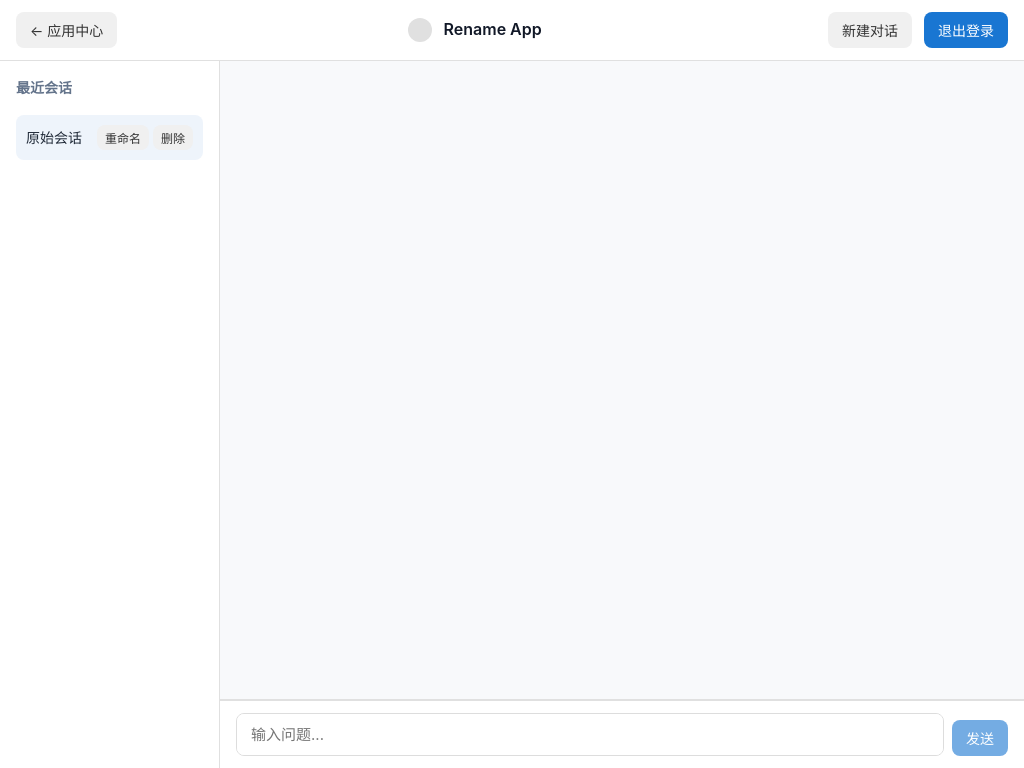
Test: ChatPage latest conversation inputs restore › renames a historical conversation through the platform API
Expected: the text "原始会话" is shown, [26,127,89,149]
Click the button "重命名" at (123, 138), box [97,125,149,150]
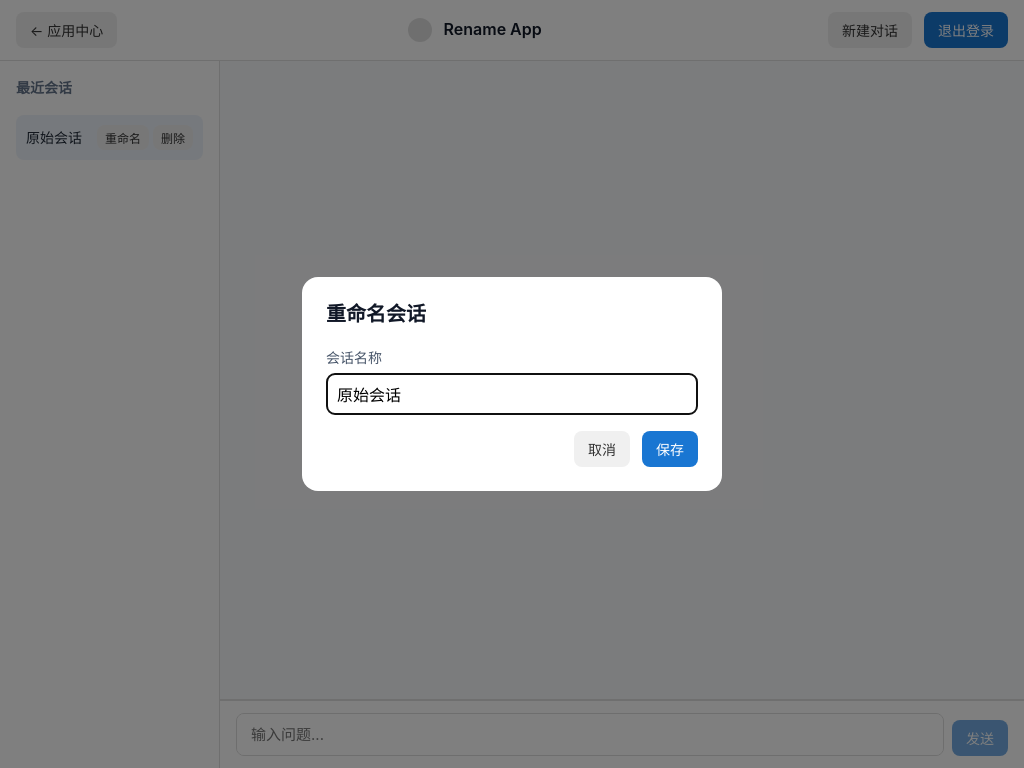
Replace the text in the field showing "原始会话" with "我的命盘解读" at (512, 394), box [326,373,698,415]
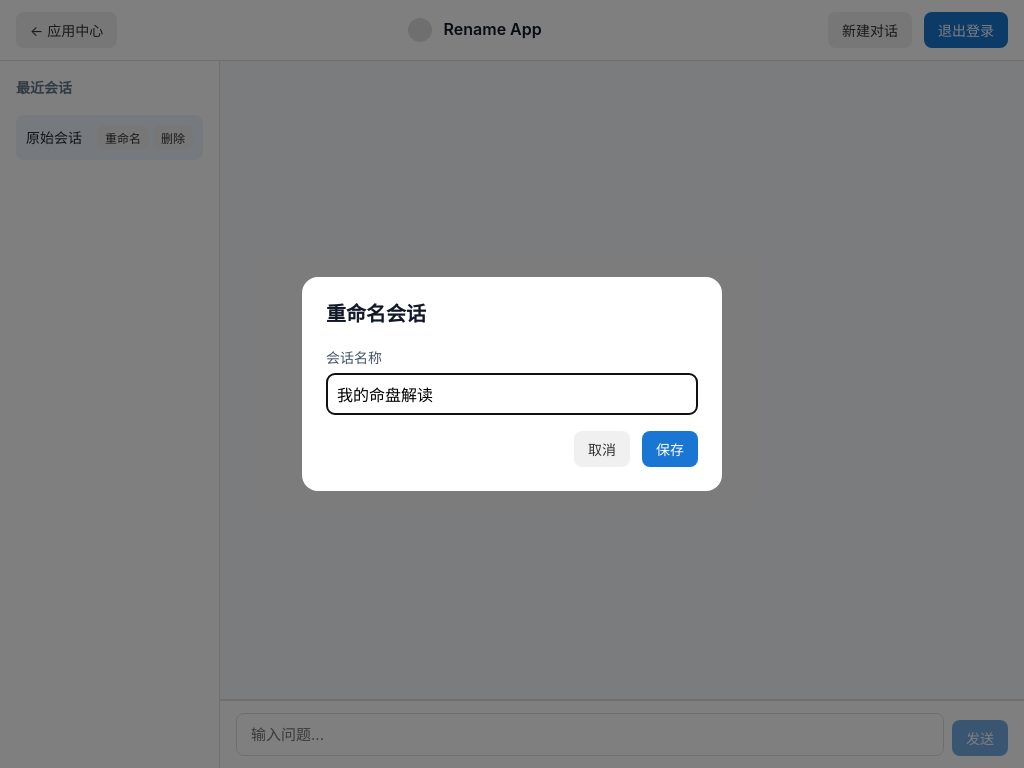
Click the button "保存" at (670, 449), box [642,431,698,467]
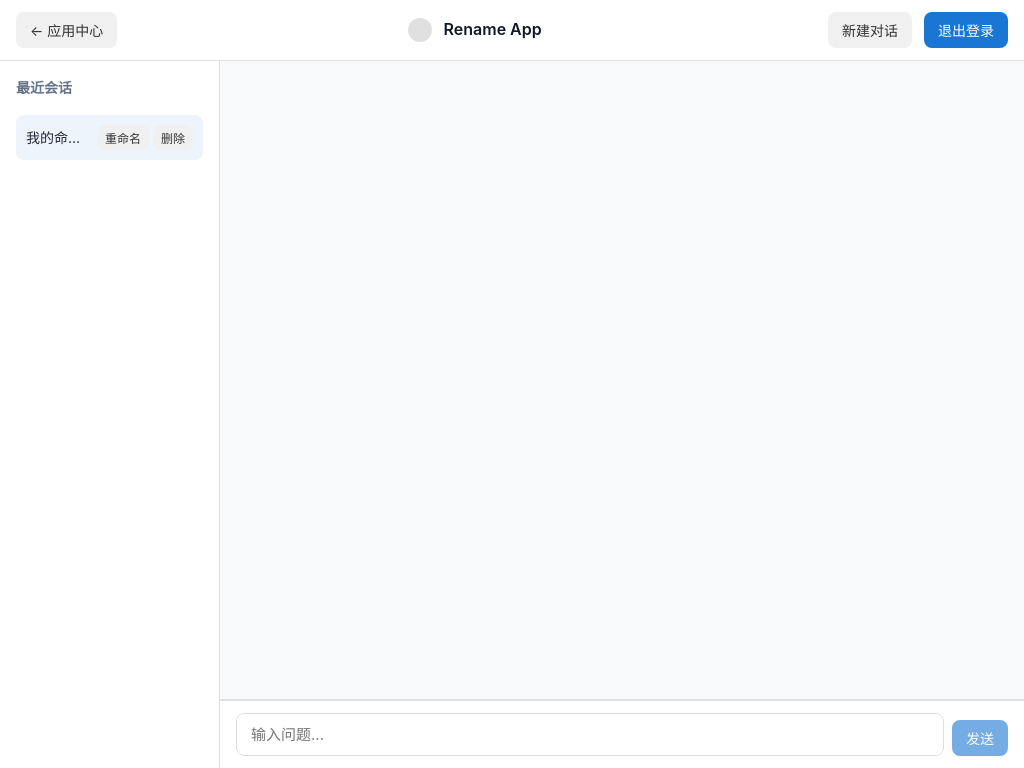
Expected: the text "我的命盘解读" is shown, [26,127,89,149]
